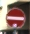No entry: (5, 6, 25, 29)
